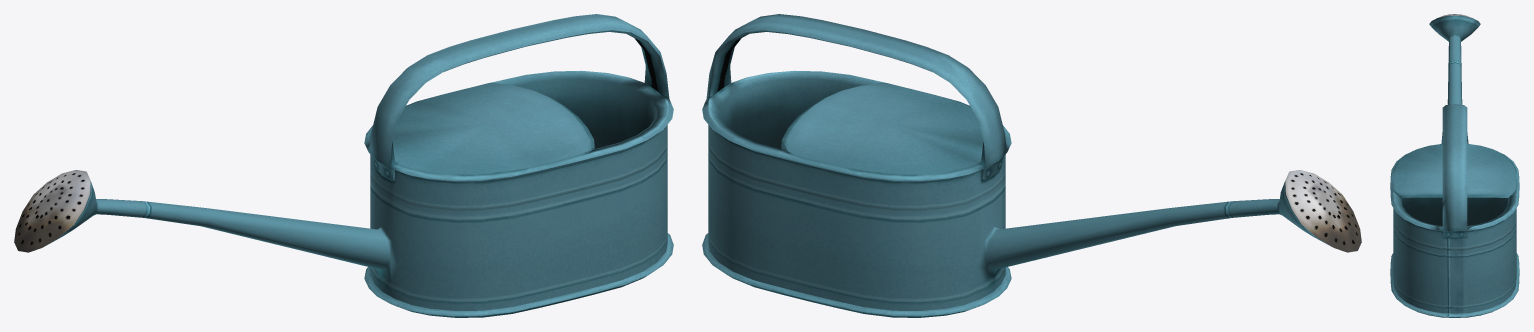
File: Furniture_wateringcan_01b_LOD0.fbx
3 renders of one model, left to right at view 1: azimuth 30°, elevation 25°; view 2: azimuth 150°, elevation 25°; view 3: azimuth 270°, elevation 25°, orthographic. The views are drawn at different scales.
Parts seen in each view (by area): view 1: Furniture_wateringcan_01b_LOD0; view 2: Furniture_wateringcan_01b_LOD0; view 3: Furniture_wateringcan_01b_LOD0.
Part boxes in pixels (x1,y1,x2,y2): Furniture_wateringcan_01b_LOD0: (14, 14, 673, 317); Furniture_wateringcan_01b_LOD0: (702, 14, 1361, 317); Furniture_wateringcan_01b_LOD0: (1390, 14, 1519, 317).
Size of the model in its own units: 80.24 by 27.71 by 22.
